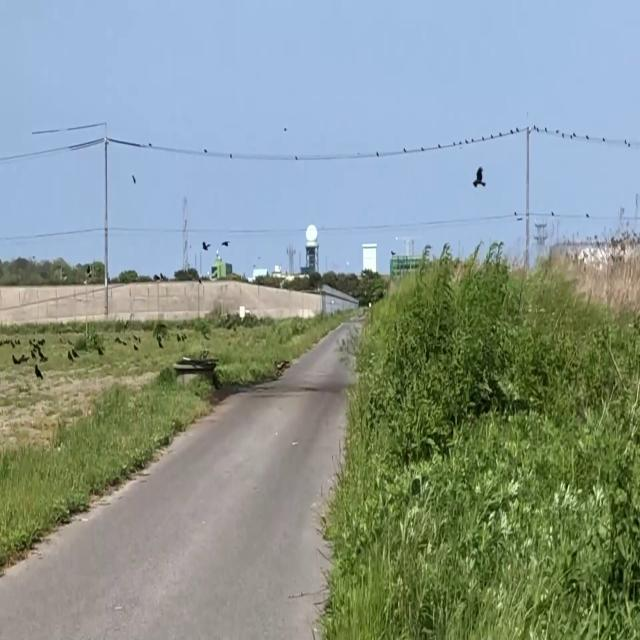bird: (472, 159, 486, 194), (36, 362, 42, 384), (202, 237, 209, 254), (222, 235, 229, 251), (68, 347, 73, 365), (132, 170, 136, 187), (177, 330, 180, 344)
